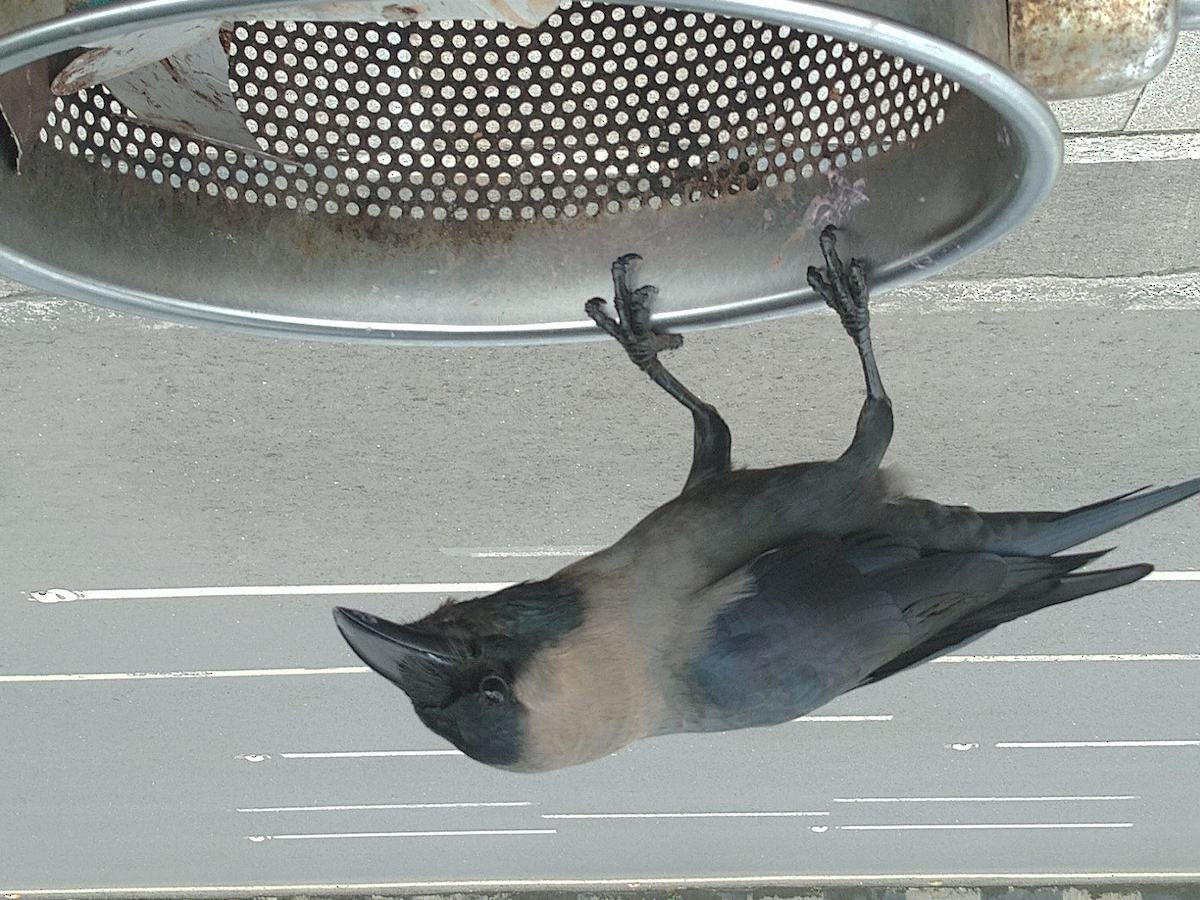crow: (334, 290, 1200, 788)
